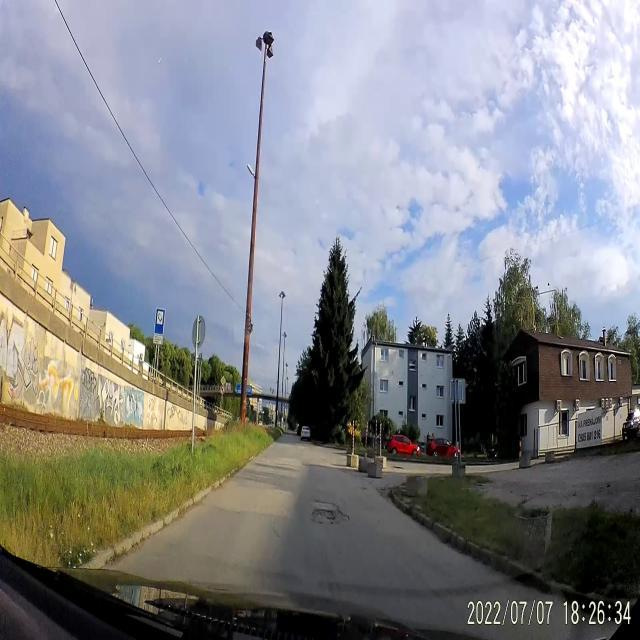Pothole: (308, 492, 352, 536)
